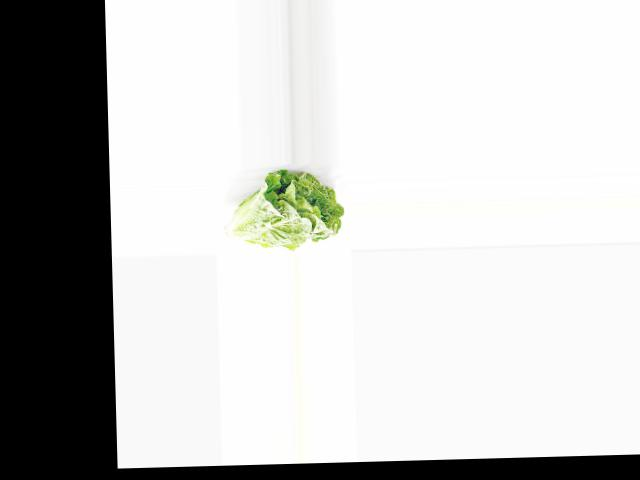lettuce: (225, 166, 343, 253)
